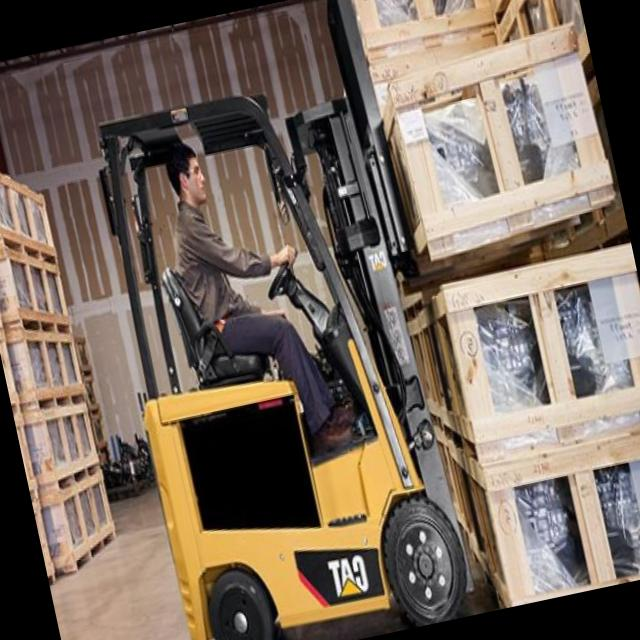driver: (144, 118, 341, 420)
forklift: (79, 47, 484, 640)
